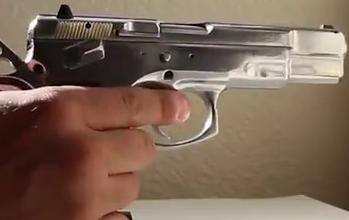gun: (1, 0, 349, 220)
